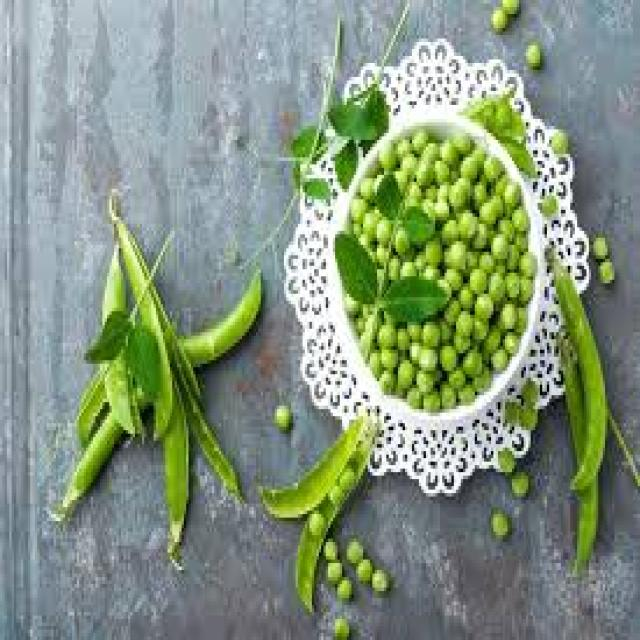peas: (59, 180, 254, 559), (356, 123, 539, 405), (264, 409, 378, 622), (547, 240, 617, 577), (313, 510, 388, 640), (493, 409, 530, 554), (491, 0, 545, 83), (265, 378, 306, 443)
